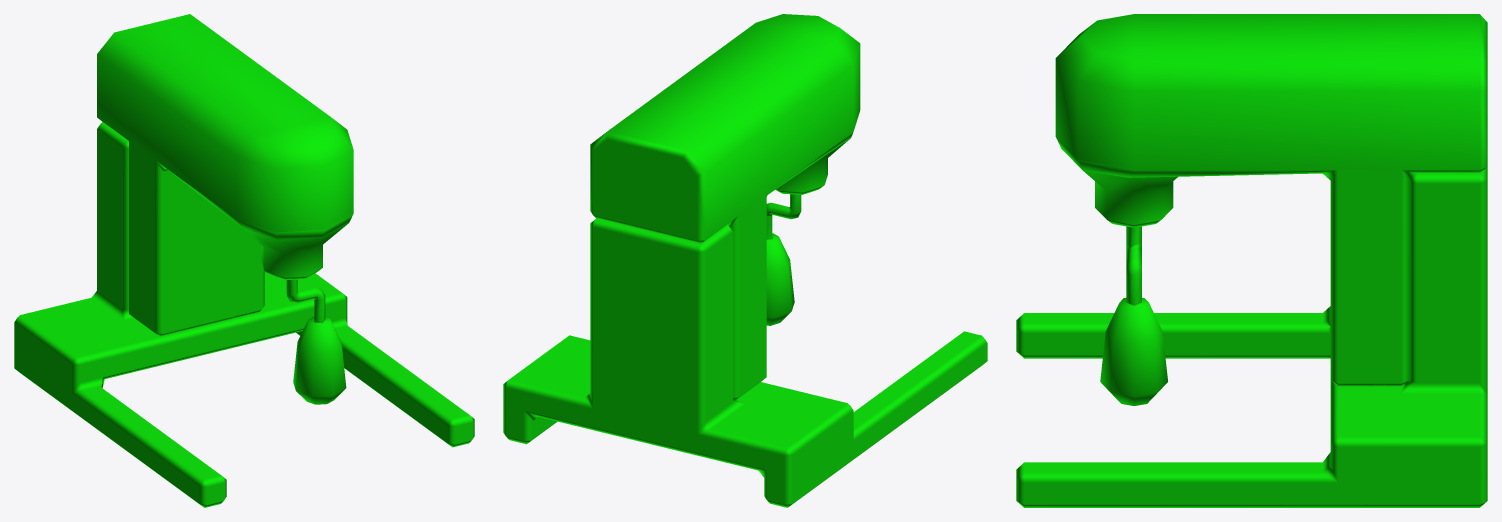
The picture shows the model from 3 angles, left to right: view 1: azimuth 30°, elevation 25°; view 2: azimuth 150°, elevation 25°; view 3: azimuth 270°, elevation 25°; orthographic projection. The views are drawn at different scales.
Visible parts, largest first — view 1: Plane.581, Plane.576, Circle.138, Plane.580; view 2: Plane.576, Plane.581, Circle.138, Plane.580; view 3: Plane.581, Plane.576, Circle.138, Plane.580.
Boxes of the visible parts, x1,y1,x2,y2 form: Plane.581: (97,14,353,336); Plane.576: (14,122,474,507); Circle.138: (293,316,346,404); Plane.580: (286,279,325,323); Plane.576: (503,218,987,507); Plane.581: (590,14,860,399); Circle.138: (766,233,794,325); Plane.580: (766,194,801,239); Plane.581: (1055,14,1487,386); Plane.576: (1016,166,1487,507); Circle.138: (1100,297,1167,405); Plane.580: (1126,226,1141,305).
Bounding box in the file's own units: 0.5 × 0.55 × 0.6.
